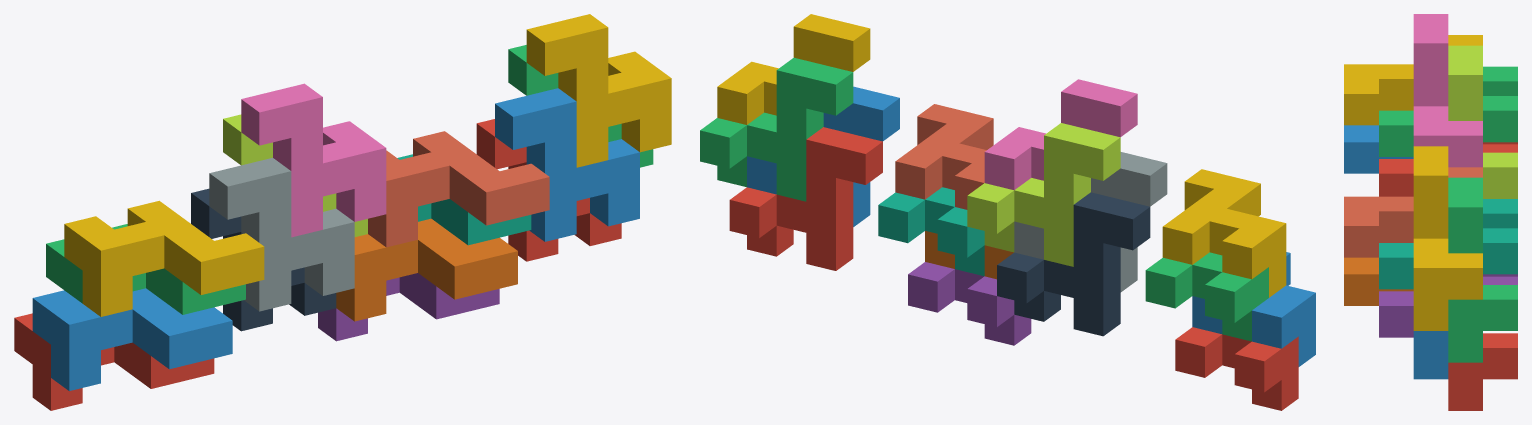
The model's file is tiling.obj.
3 views of the same model, side by side, from view 1: azimuth 30°, elevation 25°; view 2: azimuth 150°, elevation 25°; view 3: azimuth 270°, elevation 25° (orthographic). The views are drawn at different scales.
Visible parts, largest first — view 1: copy_1_domain_4, copy_2_domain_8, copy_2_domain_4, copy_2_domain_2, copy_2_domain_6, copy_1_domain_2, copy_1_domain_8, copy_1_domain_6, copy_1_domain_1, copy_1_domain_3, copy_2_domain_5, copy_2_domain_1 (+4 smaller); view 2: copy_2_domain_1, copy_2_domain_5, copy_2_domain_7, copy_2_domain_3, copy_1_domain_4, copy_1_domain_8, copy_2_domain_8, copy_2_domain_4, copy_1_domain_1, copy_1_domain_3, copy_1_domain_5, copy_1_domain_7 (+4 smaller); view 3: copy_2_domain_8, copy_2_domain_7, copy_2_domain_4, copy_1_domain_3, copy_1_domain_7, copy_2_domain_3, copy_1_domain_4, copy_1_domain_8, copy_2_domain_5, copy_1_domain_5, copy_1_domain_6, copy_1_domain_2 (+2 smaller).
Boxes of the visible parts, <box> form: copy_1_domain_4: <box>64,200,264,316</box>; copy_2_domain_8: <box>526,14,671,167</box>; copy_2_domain_4: <box>241,83,386,237</box>; copy_2_domain_2: <box>209,157,354,311</box>; copy_2_domain_6: <box>495,88,639,241</box>; copy_1_domain_2: <box>32,288,232,390</box>; copy_1_domain_8: <box>368,131,549,247</box>; copy_1_domain_6: <box>336,218,517,321</box>; copy_1_domain_1: <box>14,313,214,410</box>; copy_1_domain_3: <box>46,224,245,314</box>; copy_2_domain_5: <box>476,119,621,261</box>; copy_2_domain_1: <box>191,188,336,331</box>; copy_2_domain_1: <box>997,192,1150,336</box>; copy_2_domain_5: <box>729,127,882,270</box>; copy_2_domain_7: <box>700,57,853,201</box>; copy_2_domain_3: <box>967,123,1120,266</box>; copy_1_domain_4: <box>1162,169,1286,297</box>; copy_1_domain_8: <box>895,104,993,209</box>; copy_2_domain_8: <box>717,14,870,124</box>; copy_2_domain_4: <box>984,79,1137,190</box>; copy_1_domain_1: <box>1175,327,1298,410</box>; copy_1_domain_3: <box>1145,252,1268,341</box>; copy_1_domain_5: <box>908,262,1031,345</box>; copy_1_domain_7: <box>878,187,984,276</box>; copy_2_domain_8: <box>1413,146,1482,330</box>; copy_2_domain_7: <box>1448,177,1517,362</box>; copy_2_domain_4: <box>1413,14,1482,167</box>; copy_1_domain_3: <box>1379,66,1517,156</box>; copy_1_domain_7: <box>1379,199,1517,289</box>; copy_2_domain_3: <box>1448,45,1517,198</box>; copy_1_domain_4: <box>1344,35,1482,125</box>; copy_1_domain_8: <box>1344,167,1482,257</box>; copy_2_domain_5: <box>1448,333,1517,410</box>; copy_1_domain_5: <box>1379,274,1517,337</box>; copy_1_domain_6: <box>1344,257,1413,305</box>; copy_1_domain_2: <box>1344,125,1413,173</box>.
Bounding box in the file's own units: 19 × 8 × 5.
